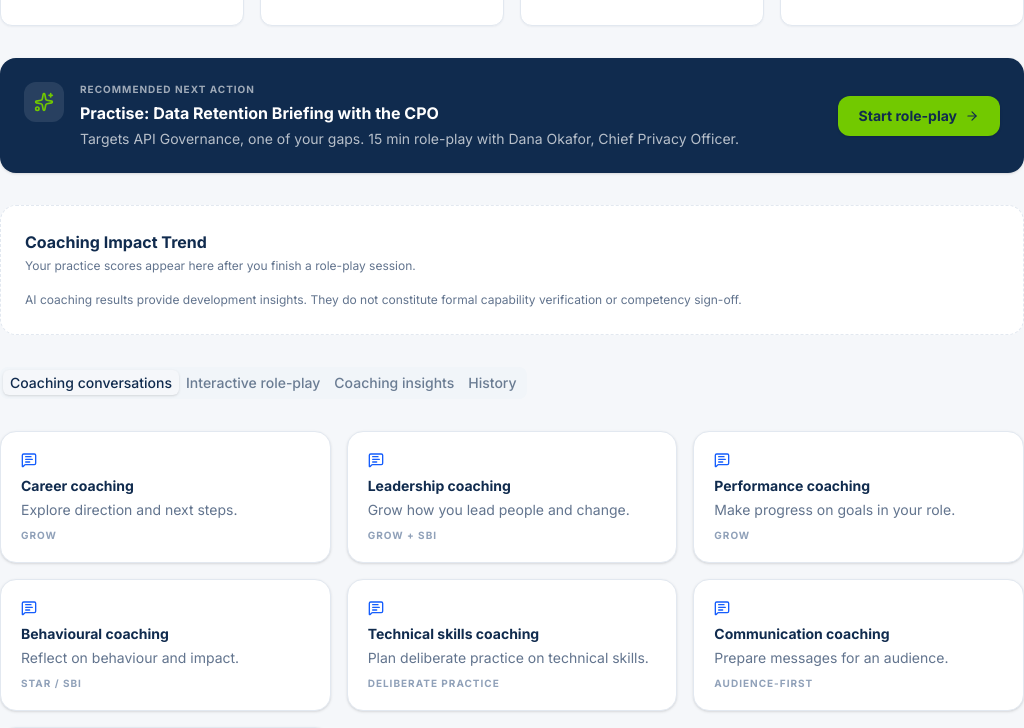
Test case: AI Coaching › shows coaching history and role-play scenarios
Later steps or results of the test are not shown.
(page scrolled)
Click the tab "History" at (492, 382), box x1=461 y1=370 x2=524 y2=395
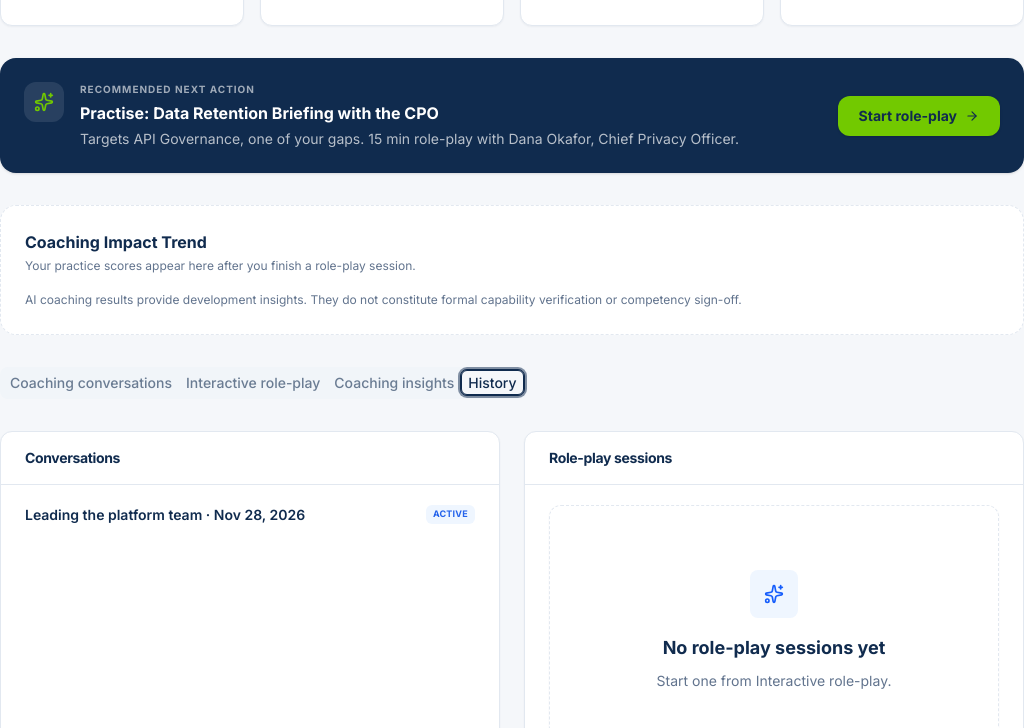
Now the link "Leading the platform team · Nov 28, 2026" is shown, box x1=25 y1=504 x2=305 y2=524
Now the heading "No role-play sessions yet" is shown, box x1=663 y1=634 x2=885 y2=662
Click the tab "Interactive role-play" at (253, 382), box x1=179 y1=370 x2=327 y2=395
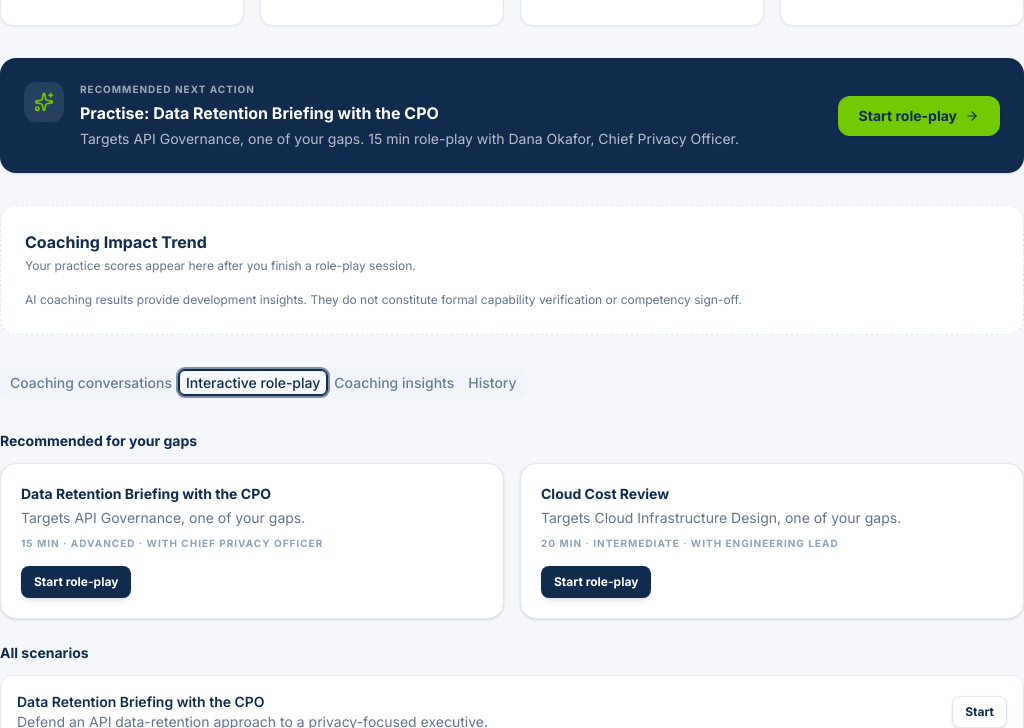
Now the text "Data Retention Briefing with the CPO" below "Recommended for your gaps" is shown, box x1=21 y1=484 x2=271 y2=502
